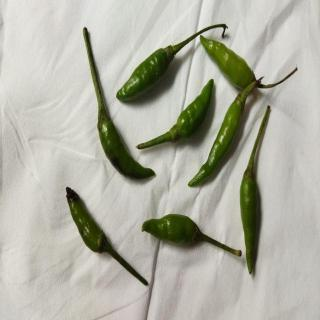Cabai Hijau: (59, 182, 153, 290), (135, 80, 218, 154), (94, 98, 157, 184)
